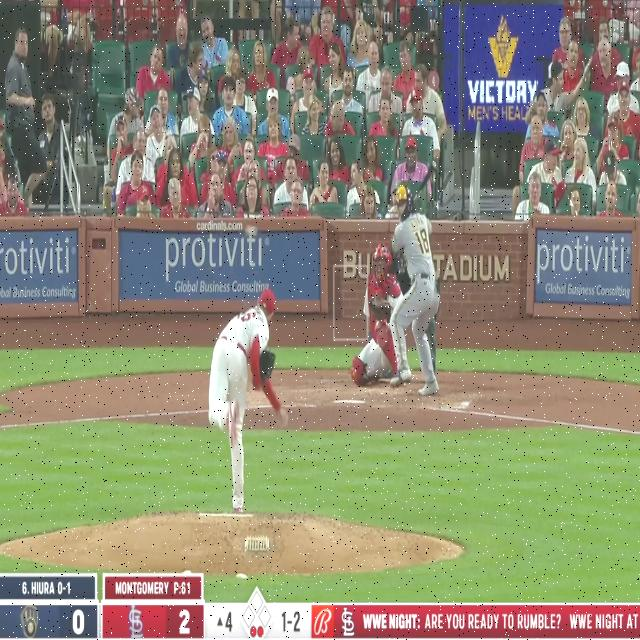baseball: (244, 223, 258, 240)
